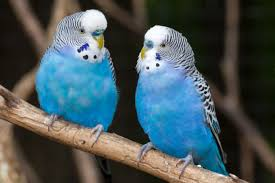budgie: (136, 24, 227, 173), (36, 8, 119, 143)
